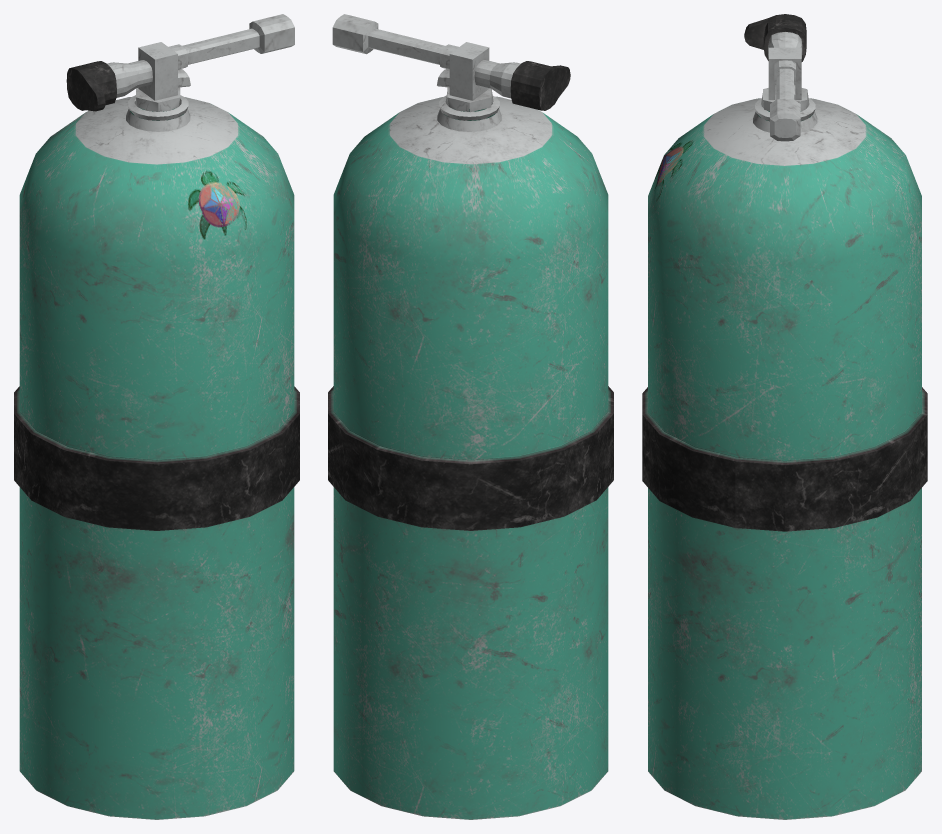
Rendered from diving_tank.glb.
3 renders of one model, left to right at view 1: azimuth 30°, elevation 25°; view 2: azimuth 150°, elevation 25°; view 3: azimuth 270°, elevation 25°, orthographic.
Parts seen in each view (by area): view 1: Cylinder001__0; view 2: Cylinder001__0; view 3: Cylinder001__0.
Boxes of the visible parts, left/top/right/bottom form: Cylinder001__0: left=14, top=14, right=299, bottom=819; Cylinder001__0: left=328, top=14, right=613, bottom=819; Cylinder001__0: left=642, top=14, right=927, bottom=819.
Bounding box in the file's own units: 1.86 × 4.92 × 1.79.
Materials: 1 (1 with a texture image).
